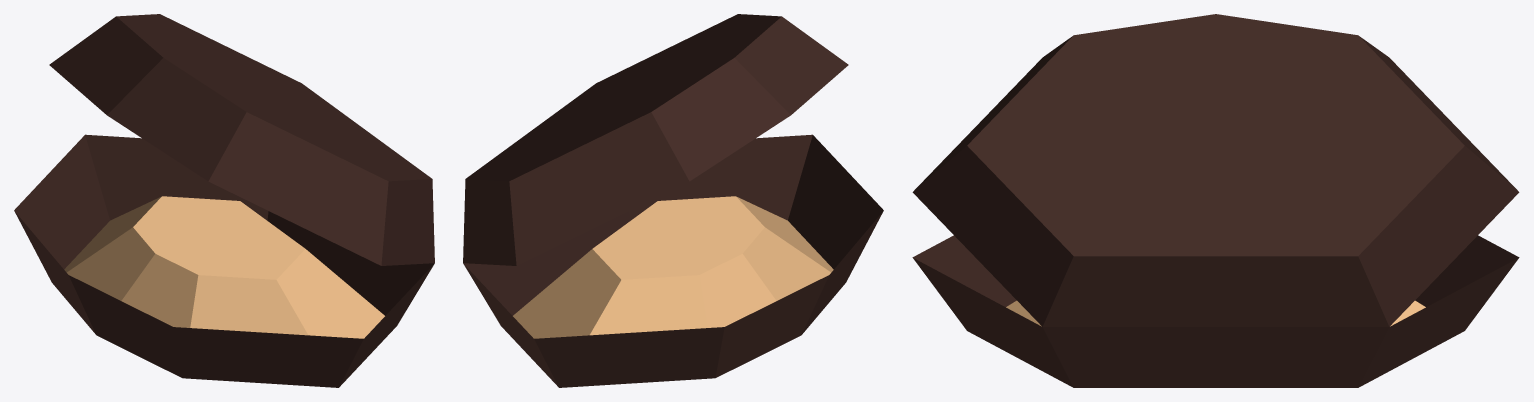
The model's file is musselOpen.obj.
3 renders of one model, left to right at view 1: azimuth 30°, elevation 25°; view 2: azimuth 150°, elevation 25°; view 3: azimuth 270°, elevation 25°, orthographic. The views are drawn at different scales.
Visible parts, largest first — view 1: musselOpen; view 2: musselOpen; view 3: musselOpen.
Boxes of the visible parts, x1=… form: musselOpen: x1=14, y1=14, x2=434, y2=387; musselOpen: x1=463, y1=14, x2=883, y2=387; musselOpen: x1=912, y1=14, x2=1519, y2=387.
Size of the model in its own units: 0.0961 by 0.0804 by 0.1554.
